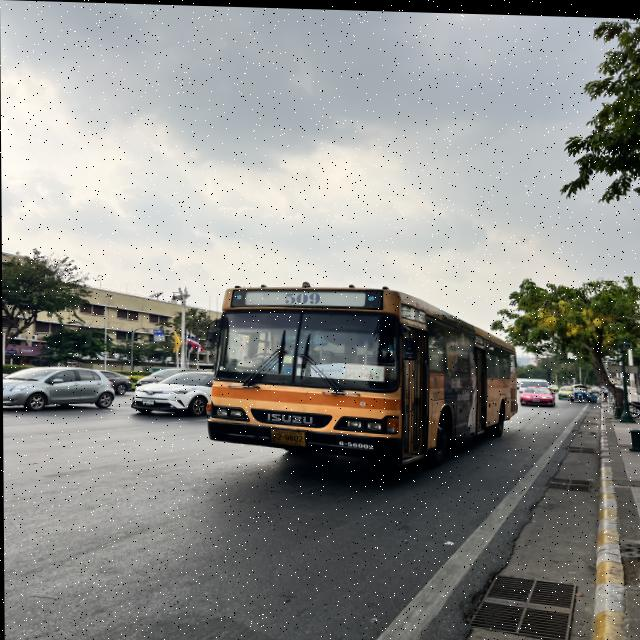BMTA-bus: (206, 284, 519, 471)
Bus Line Number: (281, 289, 322, 306)
Bus Side Number: (334, 437, 375, 451)
Destination Sign: (329, 360, 386, 380)
